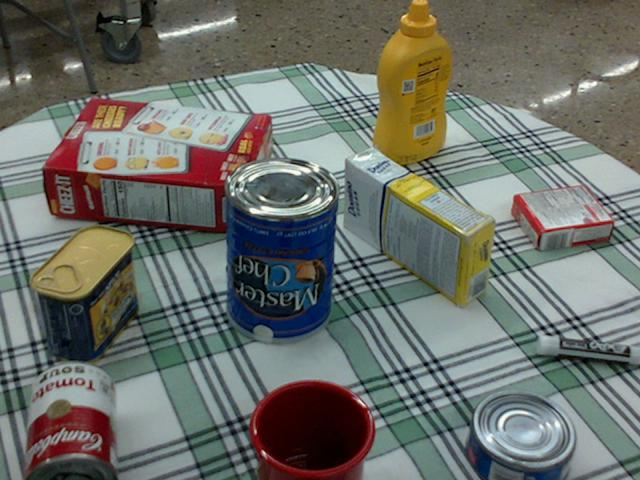cracker_box: (43, 99, 268, 230)
gelatin_box: (510, 185, 612, 250)
large_marker: (537, 334, 639, 364)
master_chef_can: (223, 156, 338, 342)
mug: (243, 380, 371, 479)
mustard_bottle: (371, 0, 451, 163)
potted_meat_can: (31, 224, 137, 364)
sugar_box: (342, 148, 495, 306)
tomato_soup_can: (20, 361, 114, 479)
tuna_fish_can: (465, 391, 575, 479)
